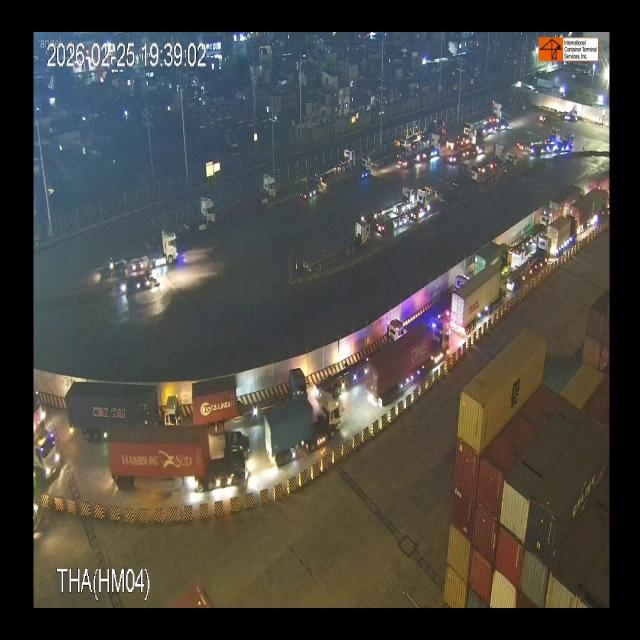truck: (106, 418, 248, 485), (316, 313, 412, 397), (62, 383, 182, 433), (360, 331, 450, 393), (190, 373, 310, 418), (266, 408, 344, 462), (451, 264, 508, 324), (230, 165, 282, 216), (114, 236, 180, 274), (503, 235, 553, 282), (468, 239, 516, 284), (175, 194, 221, 240), (542, 177, 586, 216), (576, 184, 610, 230), (549, 216, 575, 255)
